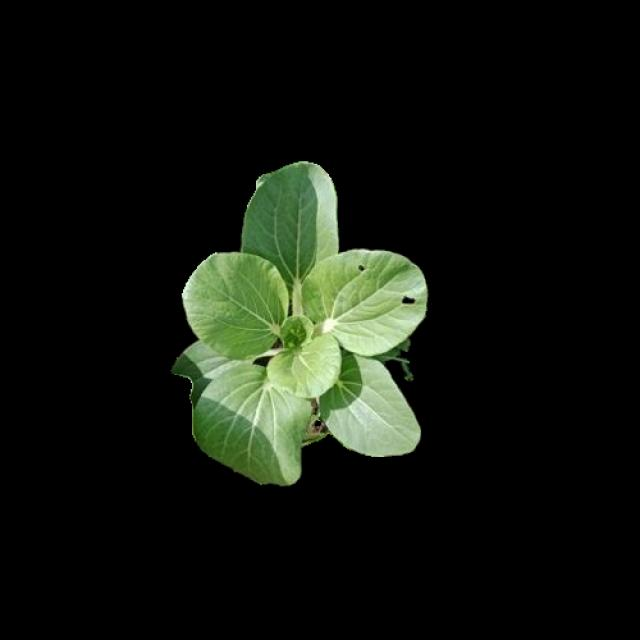not-mature: (172, 163, 428, 487)
unhealthy: (301, 246, 424, 353)
